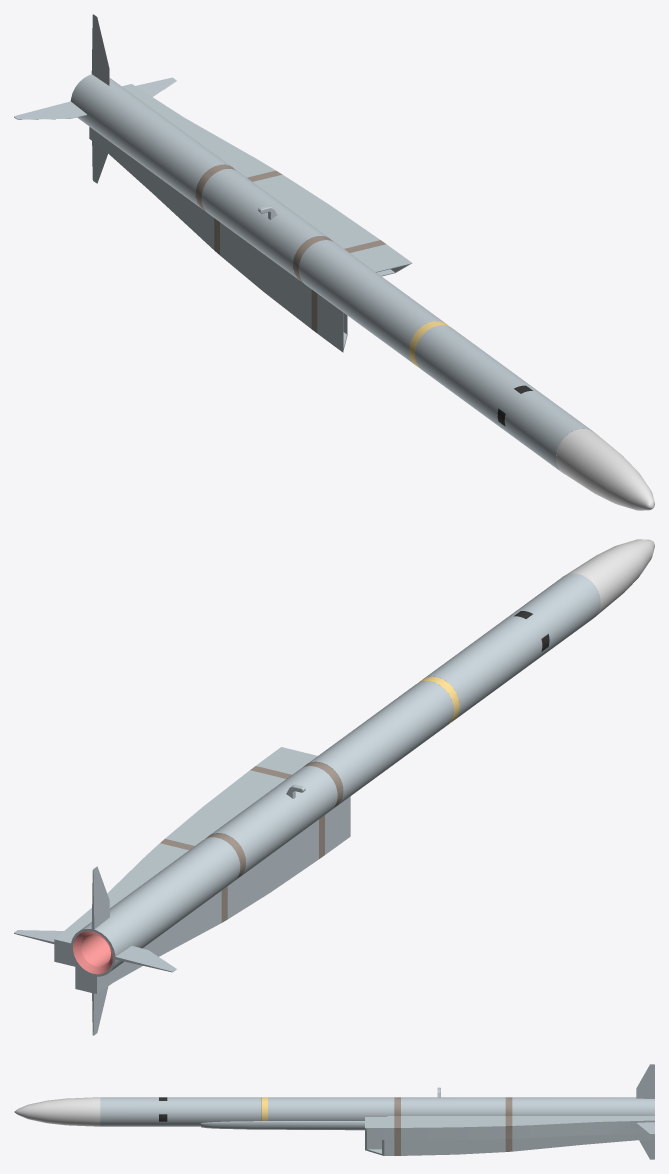
The model's file is meteorlow.fbx.
3 renders of one model, top to bottom at view 1: azimuth 30°, elevation 25°; view 2: azimuth 150°, elevation 25°; view 3: azimuth 270°, elevation 25°, orthographic. The views are drawn at different scales.
Visible parts, largest first — view 1: Body18.002; view 2: Body18.002; view 3: Body18.002.
Part boxes in pixels (x1,y1,x2,y2): Body18.002: (14,14,654,510); Body18.002: (14,539,654,1035); Body18.002: (14,1064,654,1159).
Size of the model in its own units: 63.25 by 63.25 by 386.
